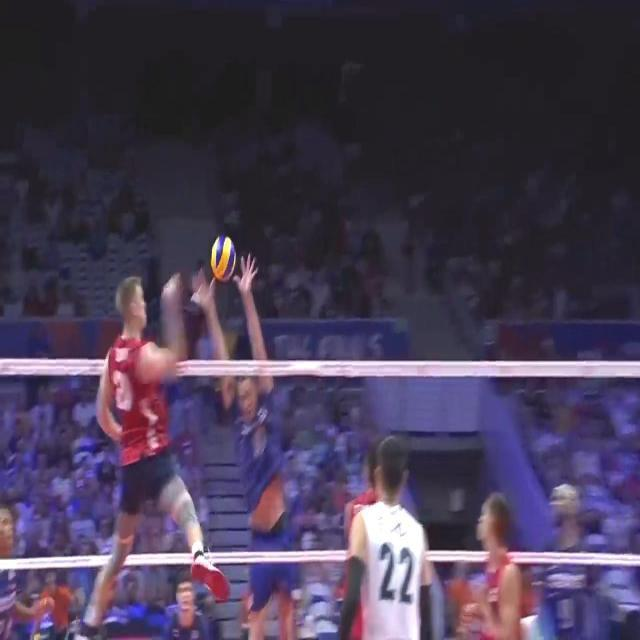volleyball: (212, 235, 238, 281)
